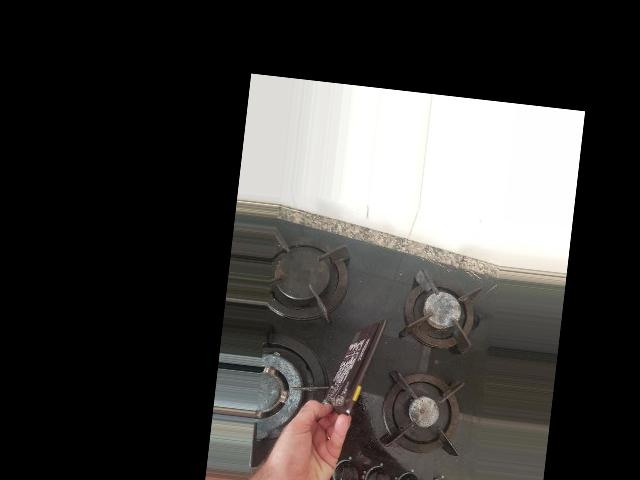chocolate: (317, 312, 389, 428)
